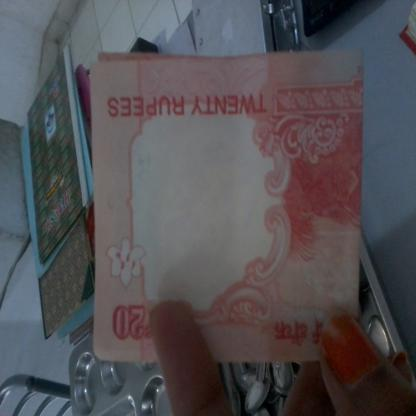Old20Back: (95, 62, 359, 362)
